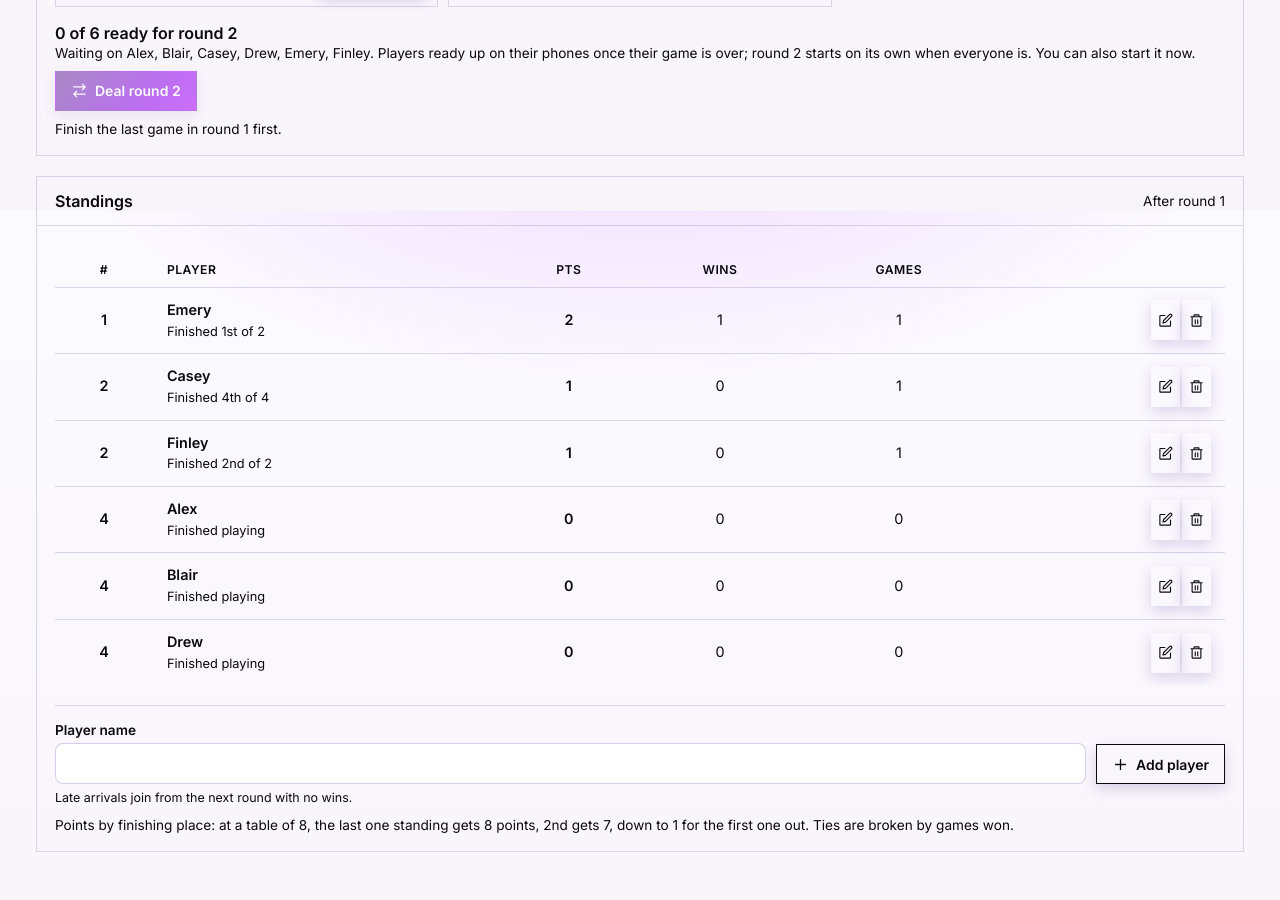
Scenario: admin: running a free-for-all › says what dropping someone mid-game does
This screenshot has width=1280, height=900.
(page scrolled)
Click the button named "Drop Drew" at x=1196, y=652, box [1182,632,1211,672]
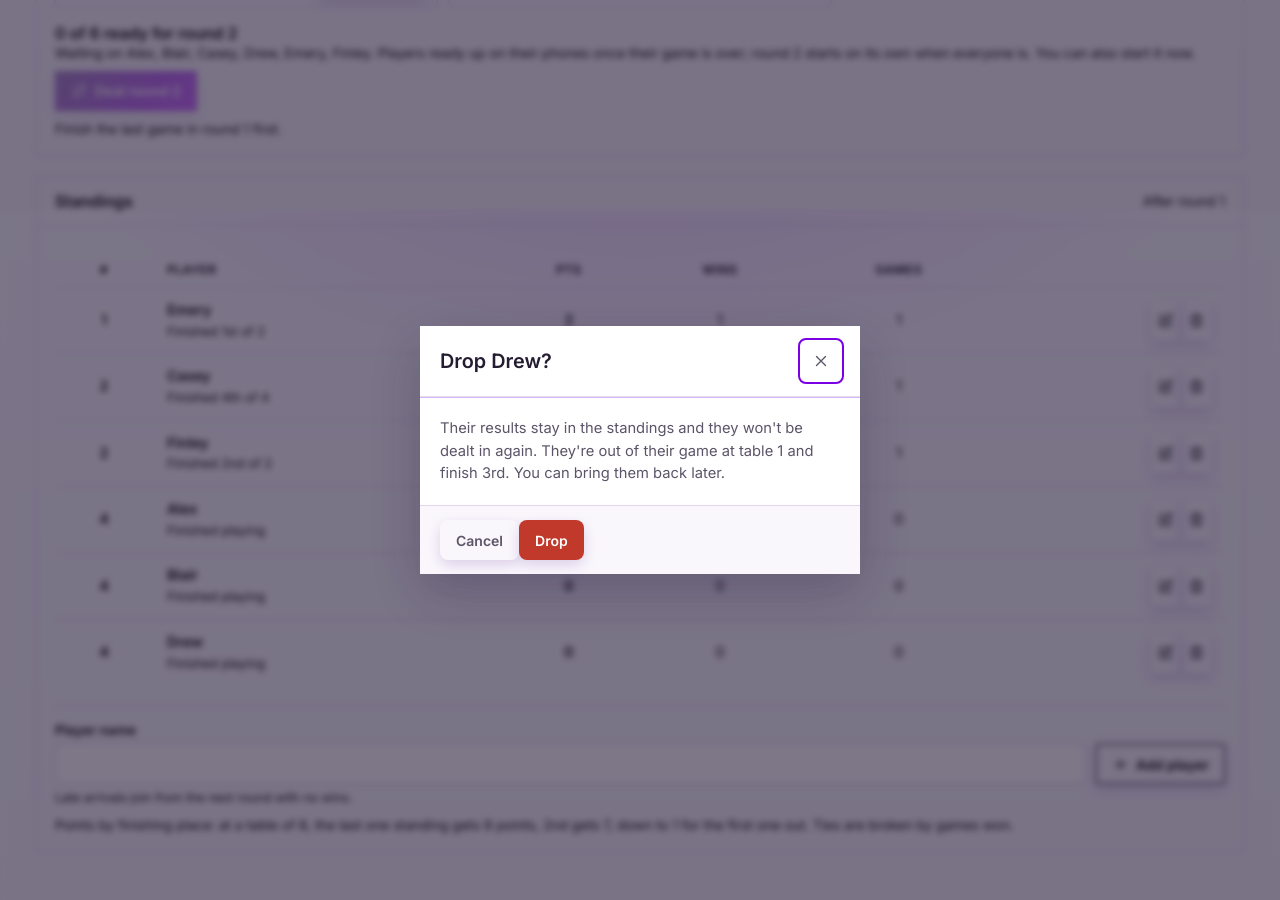
Now the text "They're out of their game at table 1 and finish 3rd." is shown, box [440,419,814,482]
